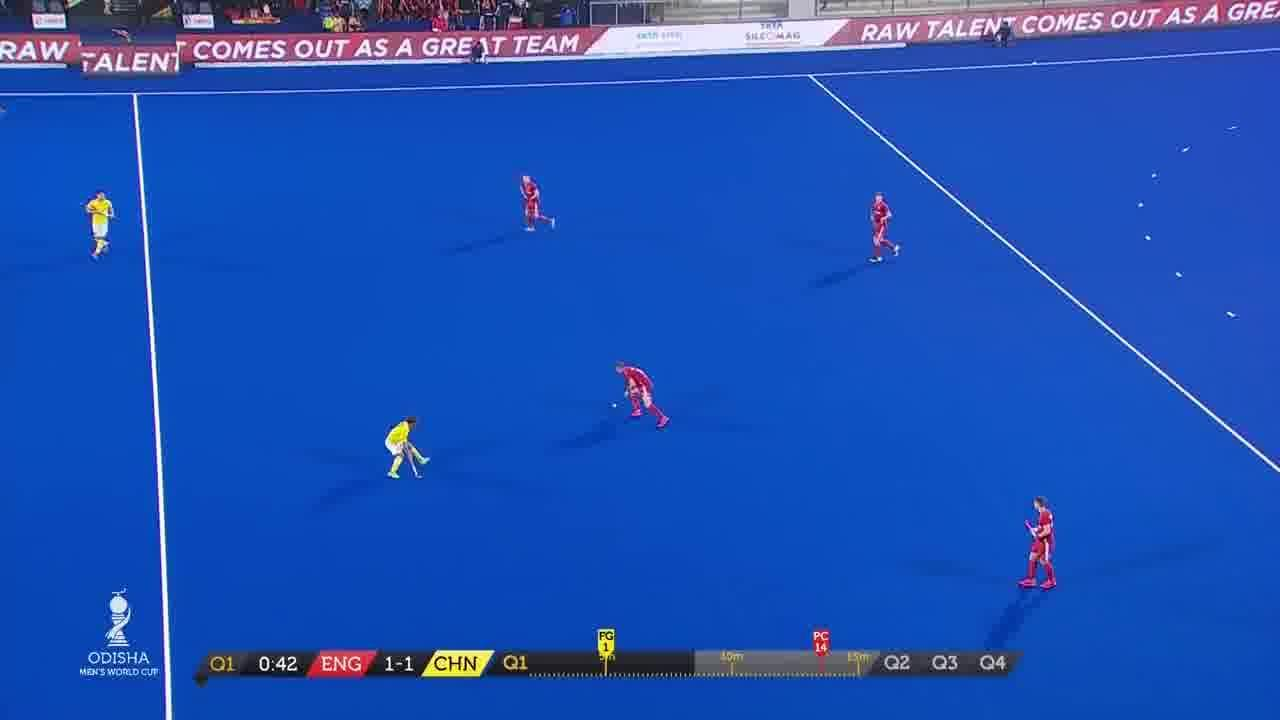ball: (603, 398, 626, 414)
